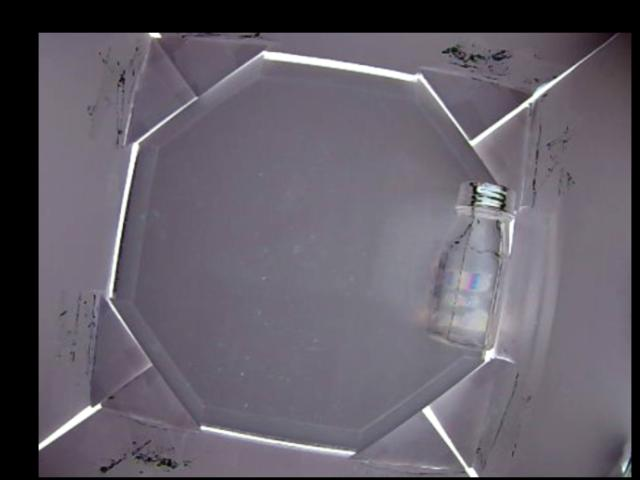Bottle: (423, 179, 518, 352)
